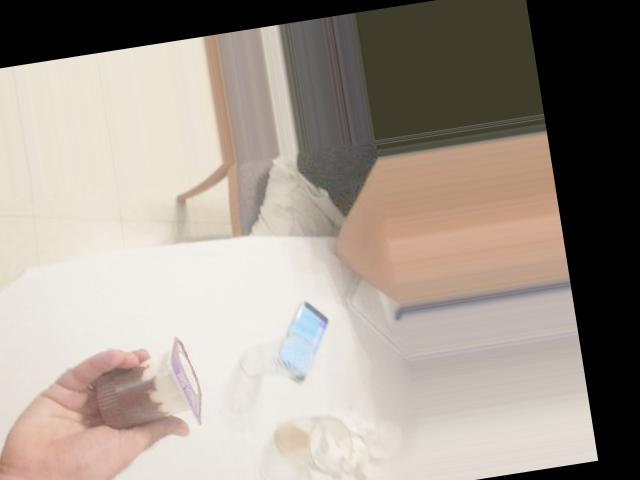milky: (125, 181, 229, 321)
